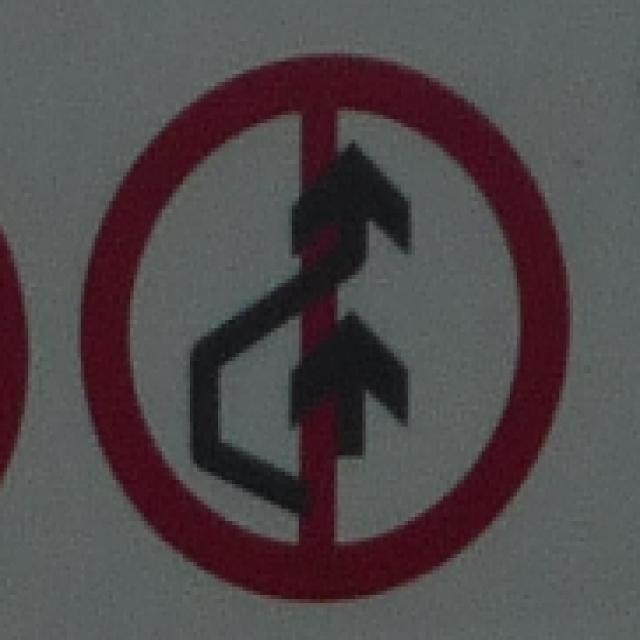Not that Direction: (77, 43, 576, 603)
